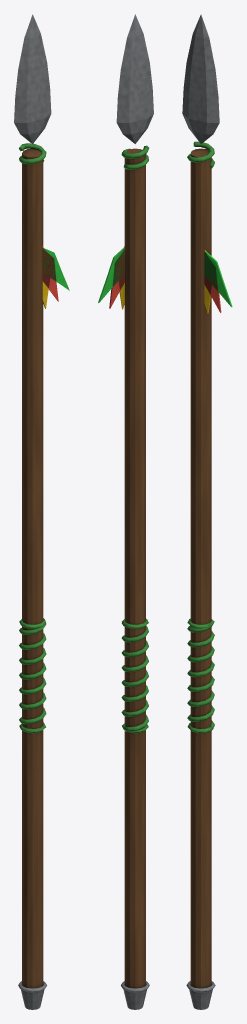
Rendered from 03_jungle_spear.fbx.
3 renders of one model, left to right at view 1: azimuth 30°, elevation 25°; view 2: azimuth 210°, elevation 25°; view 3: azimuth 330°, elevation 25°, orthographic.
Visible parts, largest first — view 1: Weapon; view 2: Weapon; view 3: Weapon.
Boxes of the visible parts, x1=… form: Weapon: x1=14, y1=14, x2=69, y2=1009; Weapon: x1=98, y1=14, x2=153, y2=1009; Weapon: x1=182, y1=14, x2=232, y2=1009.
Bounding box in the file's own units: 12.43 × 224 × 5.98.
Materials: 1 (1 with a texture image).
